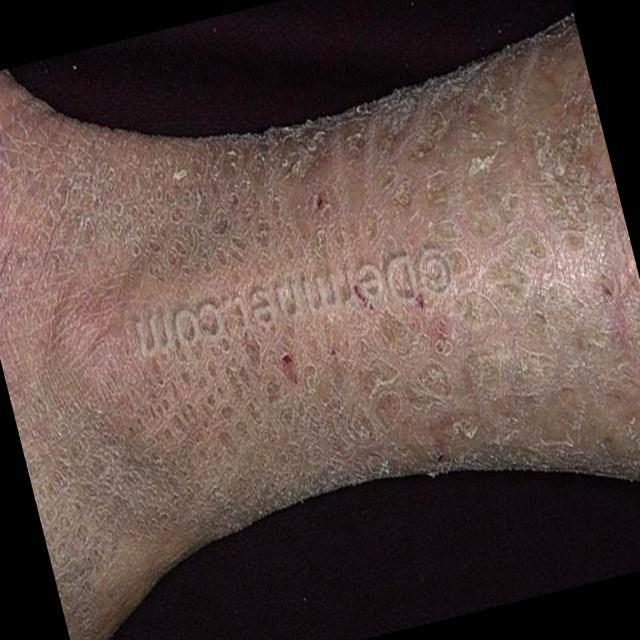Eczema: (57, 84, 591, 498)
